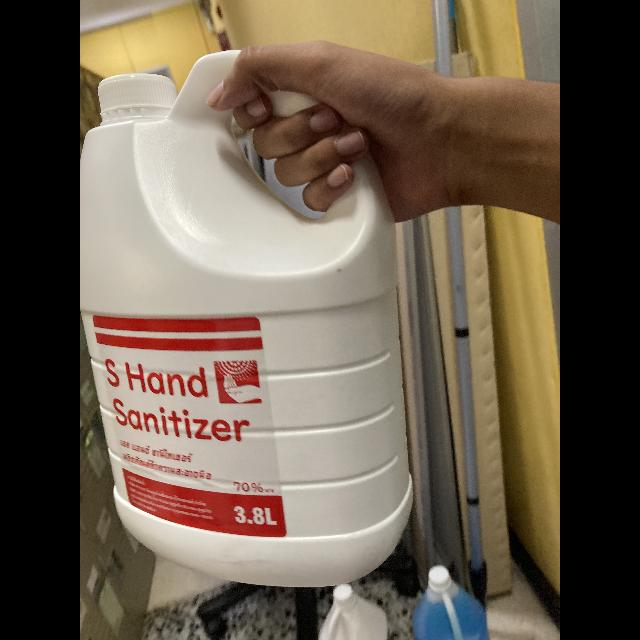chemical_plastic_gallon: (80, 46, 416, 588)
